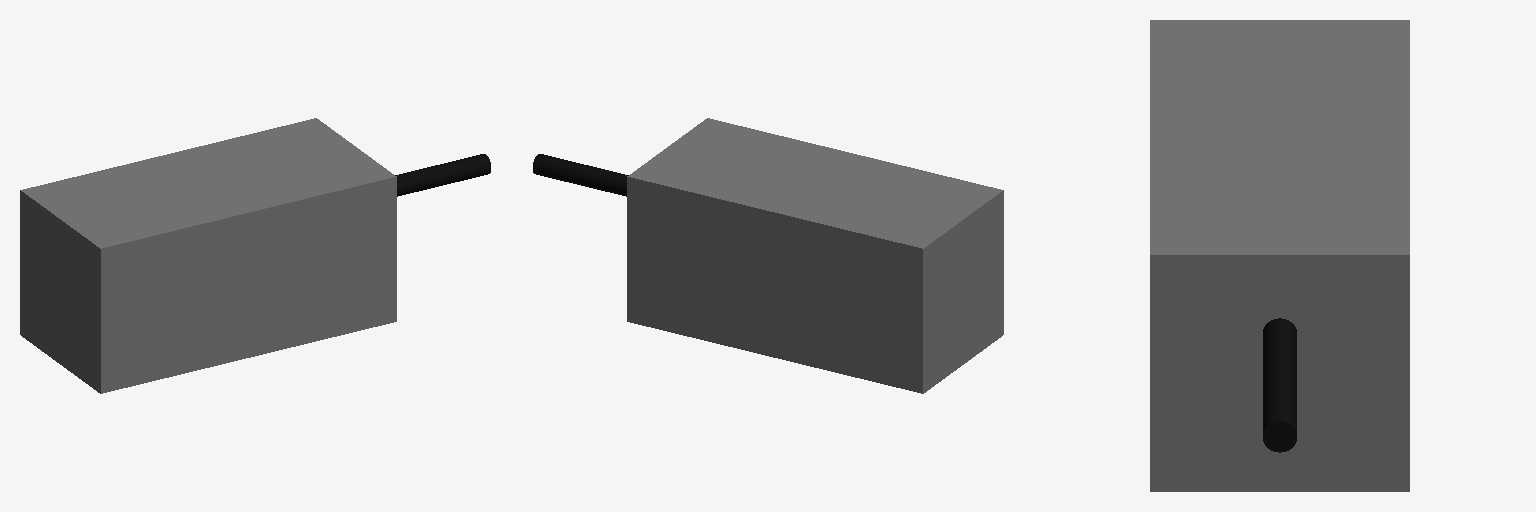
The robot description file, URDF, robot "gripper":
<?xml version="1.0" ?>
<robot name="gripper">
  <link name="baseLink">
    <inertial>
      <origin rpy="0 0 0" xyz="0 0 0"/>
       <mass value="0.1"/>
       <inertia ixx="0.1" ixy="0" ixz="0" iyy="0.1" iyz="0" izz="0.1"/>
    </inertial>
    <visual>
      <origin rpy="0 0 0" xyz="0 0.0 0.0"/>
      <geometry>
			<mesh filename="tool_mesh/base_m.stl"/>
      </geometry>
       <material name="grey">
        <color rgba="0.5 0.5 0.5 1.0"/>
      </material>
    </visual>
    <collision>
       <geometry>
			<mesh filename="tool_mesh/base_m.stl"/>
      </geometry>
    </collision>


  </link>

  <joint name="gripping_trafo" type="fixed">
		<parent link="baseLink"/>
		<child link="tcp"/>
		<origin xyz="0.3 0.0 0.1" rpy="0 -1.57075 0"/>
  </joint>

  <link name="tcp">
    <visual>
        <origin xyz="0 0 0.1" rpy="0 0 0"/>
        <geometry>
           <cylinder length="0.2" radius="0.01"/>
        </geometry>
        <material name="black">
            <color rgba="0.1 0.1 0.1 1.0"/>
        </material>
    </visual>

    <collision>
       <origin xyz="0 0 0.1" rpy="0 0 0"/>
       <geometry>
           <cylinder length="0.2" radius="0.01"/>
       </geometry>
    </collision>
  </link>

</robot>

--- Facts derived from the render (not from the file) ---
The picture shows the robot from 3 angles, left to right: view 1: azimuth 30°, elevation 25°; view 2: azimuth 150°, elevation 25°; view 3: azimuth 270°, elevation 25°; orthographic projection.
Robot: gripper — 2 links, 1 joints (1 fixed); root link baseLink; default pose: all joints at 0.
Links seen in each view (by area): view 1: baseLink, tcp; view 2: baseLink, tcp; view 3: baseLink, tcp.
Link boxes in pixels (x1,y1,x2,y2): baseLink: (20,118,396,393); tcp: (395,154,490,196); baseLink: (627,118,1003,393); tcp: (533,154,628,196); baseLink: (1150,20,1409,491); tcp: (1263,318,1296,452).
Bounding box of the posed robot: 0.46 × 0.15 × 0.15 m (x, y, z).
1 mesh visuals loaded from 1 distinct referenced files (1 binary STL).